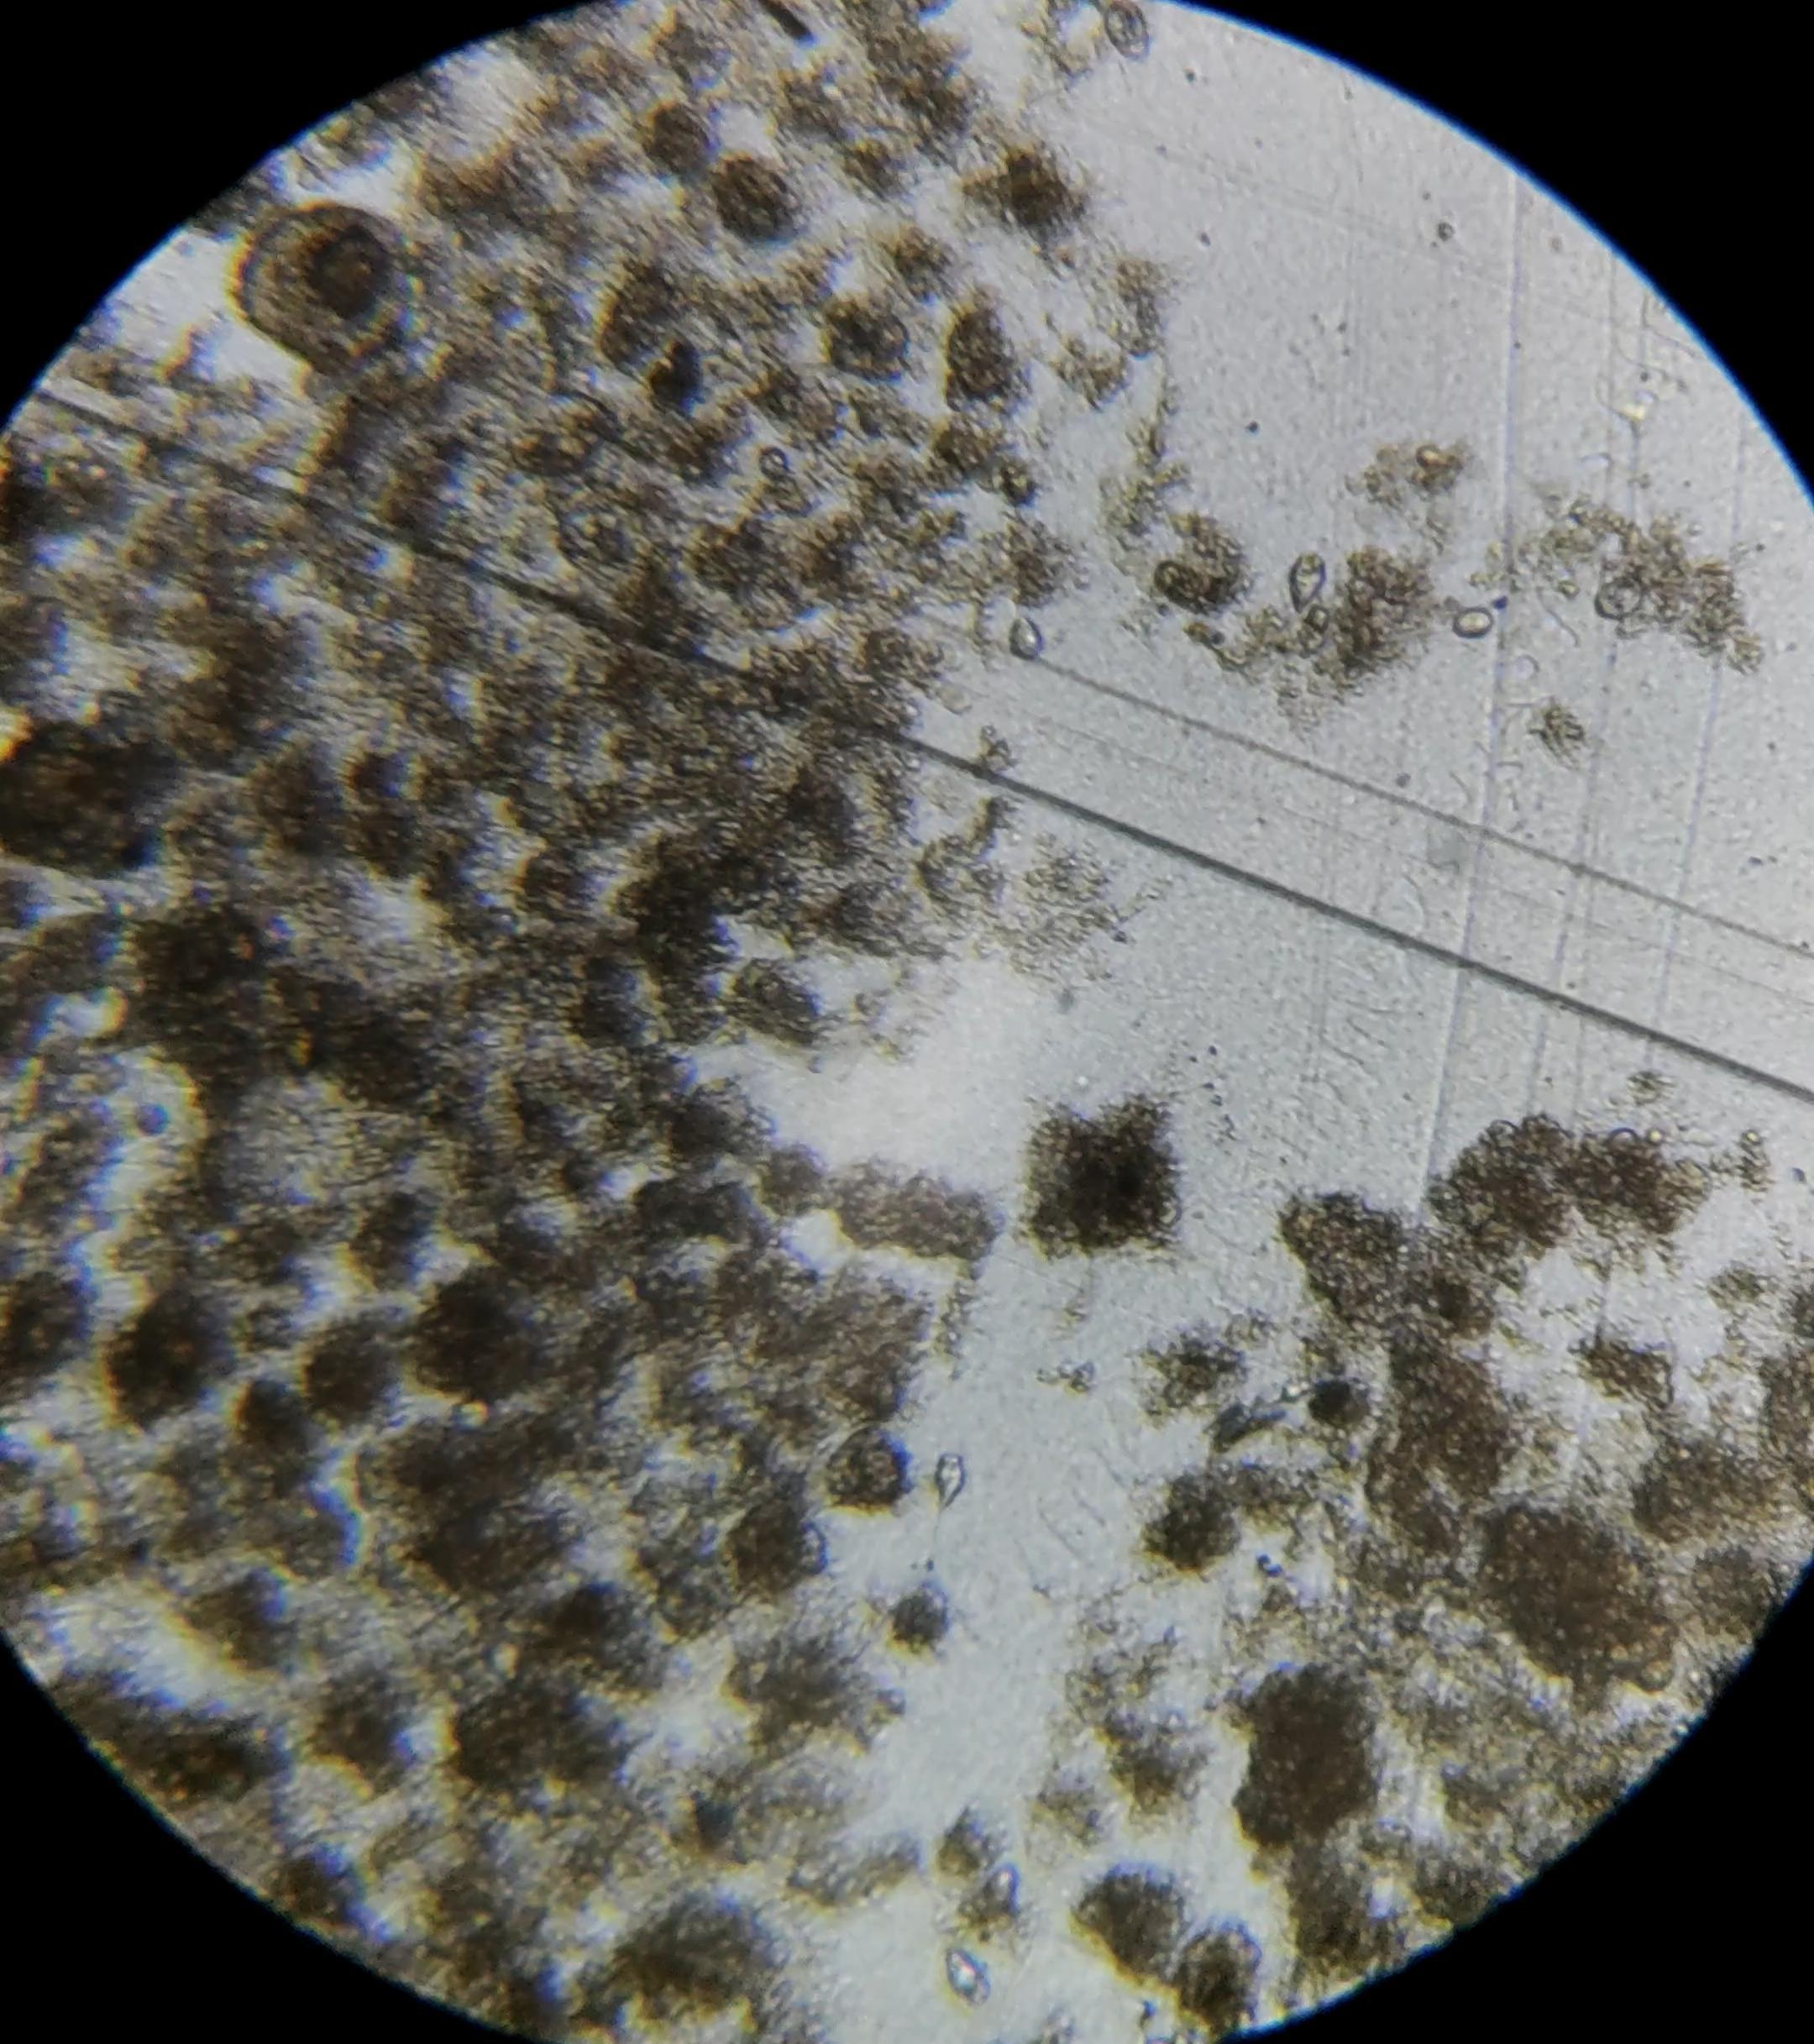Arcella: (245, 208, 403, 361)
